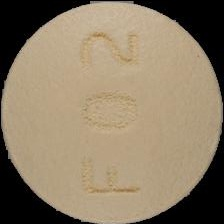68180-557: (0, 0, 224, 224)
